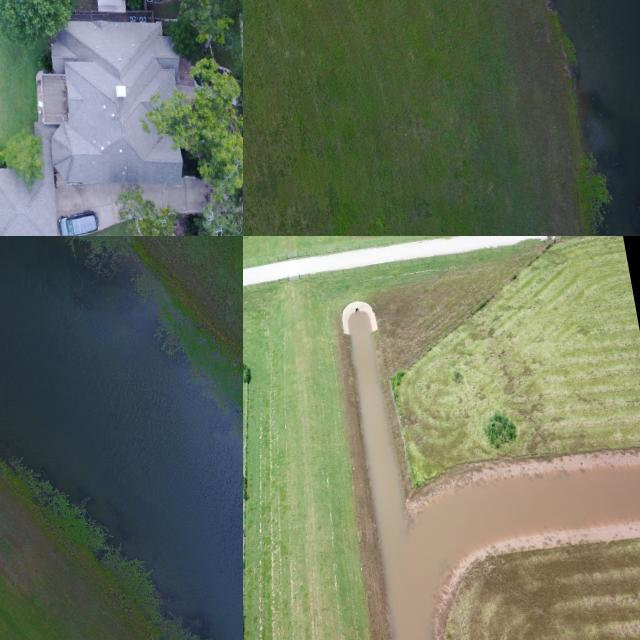fire: (0, 236, 243, 640), (348, 305, 640, 640)
